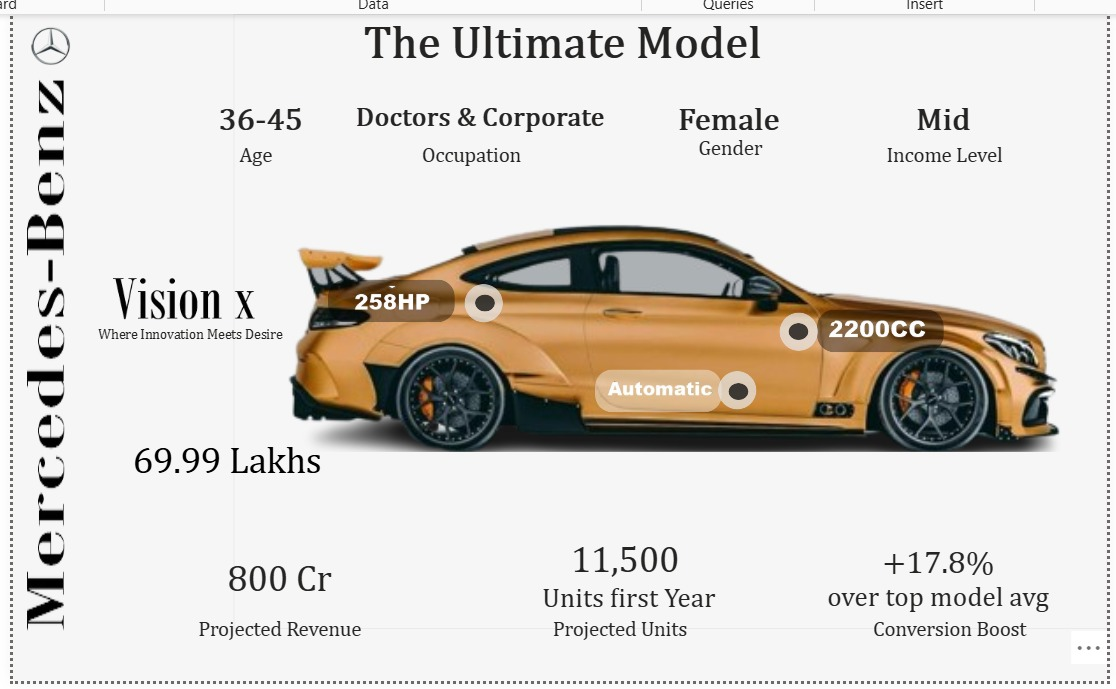

This screenshot's page, from the dashboard's own definition file:
{"tool":"powerbi","page":{"name":"Page 6","canvas":[1249,720],"ordinal":5},"visuals":[{"type":"advancedSlicerVisual","fields":{"Values":["Top_3_Only_Table.Variant"]},"box":[34,94,200,258],"z":1000},{"type":"card","fields":{"Values":["Avg(Cars.Unit_Price)"]},"box":[0,529,315.7,120],"z":2000},{"type":"card","fields":{"Values":["Avg(Cars.Variant_Total_Revenue)"]},"box":[524.3,536.1,231.4,104.3],"z":3000},{"type":"card","fields":{"Values":["CountNonNull(Cars.Variant)"]},"box":[255.7,536.1,231.4,104.3],"z":4000},{"type":"card","fields":{"Values":["Avg(Top_3_Only_Table.Revenue_Contribution_Rank)"]},"box":[774.3,536.1,231.4,104.3],"z":5000},{"type":"card","fields":{"Values":["Avg(Cars. Revenue_Contribution_Pct)"]},"box":[1005.7,536.1,231.4,104.3],"z":6000},{"type":"card","fields":{"Values":["Avg(Cars.Engine_CC)"]},"box":[293.4,80.5,231.2,103.8],"z":7000},{"type":"card","fields":{"Values":["Min(Cars.Fuel_Type)"]},"box":[481.4,82.4,231.4,104.3],"z":8000},{"type":"card","fields":{"Values":["Sum(Cars.Horse_Power)"]},"box":[700,81,231.4,104.3],"z":9000},{"type":"card","fields":{"Values":["Min(Cars.Transmission)"]},"box":[890,81,310,104.3],"z":10000},{"type":"card","fields":{"Values":["Min(Cars.Variant)"]},"box":[149.5,295.8,337.5,111.2],"z":11000},{"type":"textbox","box":[329.6,159.2,160,38.8],"z":12000},{"type":"textbox","box":[522.1,160.9,160,38.8],"z":13000},{"type":"textbox","box":[740.9,159.6,160,38.8],"z":14000},{"type":"textbox","box":[969.6,157.1,160,38.8],"z":15000},{"type":"card","fields":{"Values":["Min(Cars.Model_Name)"]},"box":[55.9,404.7,337.5,111.2],"z":16000},{"type":"textbox","box":[233.2,387,160,38.8],"z":17000},{"type":"textbox","box":[144.6,489.7,160,38.8],"z":18000},{"type":"textbox","box":[72.1,609.7,160,38.8],"z":19000},{"type":"textbox","box":[293.4,609.7,160,38.8],"z":20000},{"type":"textbox","box":[552.1,609.7,160,38.8],"z":21000},{"type":"textbox","box":[809.6,609.7,160,38.8],"z":22000},{"type":"textbox","box":[997.1,609.7,240,38.8],"z":23000},{"type":"advancedSlicerVisual","fields":{"Values":["Top_3_Only_Table.Model_Name"]},"box":[373.1,74.7,864,568],"z":25000},{"type":"textbox","box":[232,0,726,70],"z":26000}]}

Visuals, with their boxes on the page's 1249x720 design canvas (x1, y1, x2, y2). These are canvas units, not pixel positions in the 1116x689 screenshot, which may show the page scaled, cropped or inside an application window:
advancedSlicerVisual - Top_3_Only_Table.Variant: locate(34, 94, 234, 352)
card - Avg(Cars.Unit_Price): locate(0, 529, 316, 649)
card - Avg(Cars.Variant_Total_Revenue): locate(524, 536, 756, 640)
card - CountNonNull(Cars.Variant): locate(256, 536, 487, 640)
card - Avg(Top_3_Only_Table.Revenue_Contribution_Rank): locate(774, 536, 1006, 640)
card - Avg(Cars. Revenue_Contribution_Pct): locate(1006, 536, 1237, 640)
card - Avg(Cars.Engine_CC): locate(293, 80, 525, 184)
card - Min(Cars.Fuel_Type): locate(481, 82, 713, 187)
card - Sum(Cars.Horse_Power): locate(700, 81, 931, 185)
card - Min(Cars.Transmission): locate(890, 81, 1200, 185)
card - Min(Cars.Variant): locate(150, 296, 487, 407)
textbox: locate(330, 159, 490, 198)
textbox: locate(522, 161, 682, 200)
textbox: locate(741, 160, 901, 198)
textbox: locate(970, 157, 1130, 196)
card - Min(Cars.Model_Name): locate(56, 405, 393, 516)
textbox: locate(233, 387, 393, 426)
textbox: locate(145, 490, 305, 528)
textbox: locate(72, 610, 232, 648)
textbox: locate(293, 610, 453, 648)
textbox: locate(552, 610, 712, 648)
textbox: locate(810, 610, 970, 648)
textbox: locate(997, 610, 1237, 648)
advancedSlicerVisual - Top_3_Only_Table.Model_Name: locate(373, 75, 1237, 643)
textbox: locate(232, 0, 958, 70)
